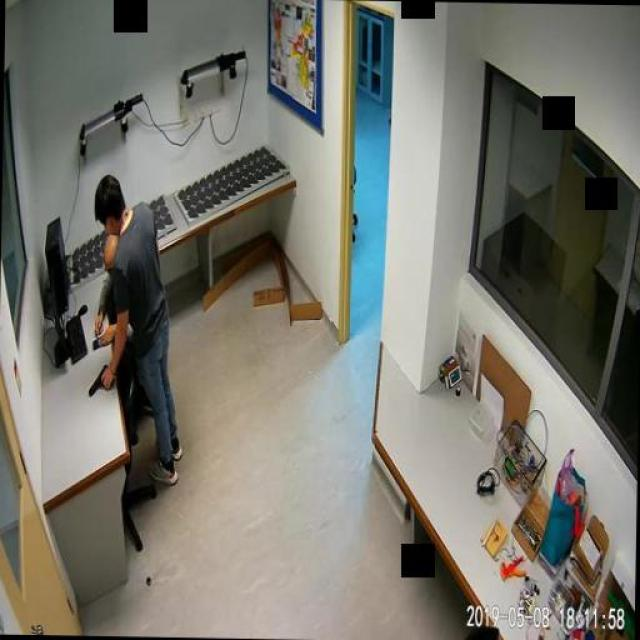gun: (85, 359, 116, 399)
